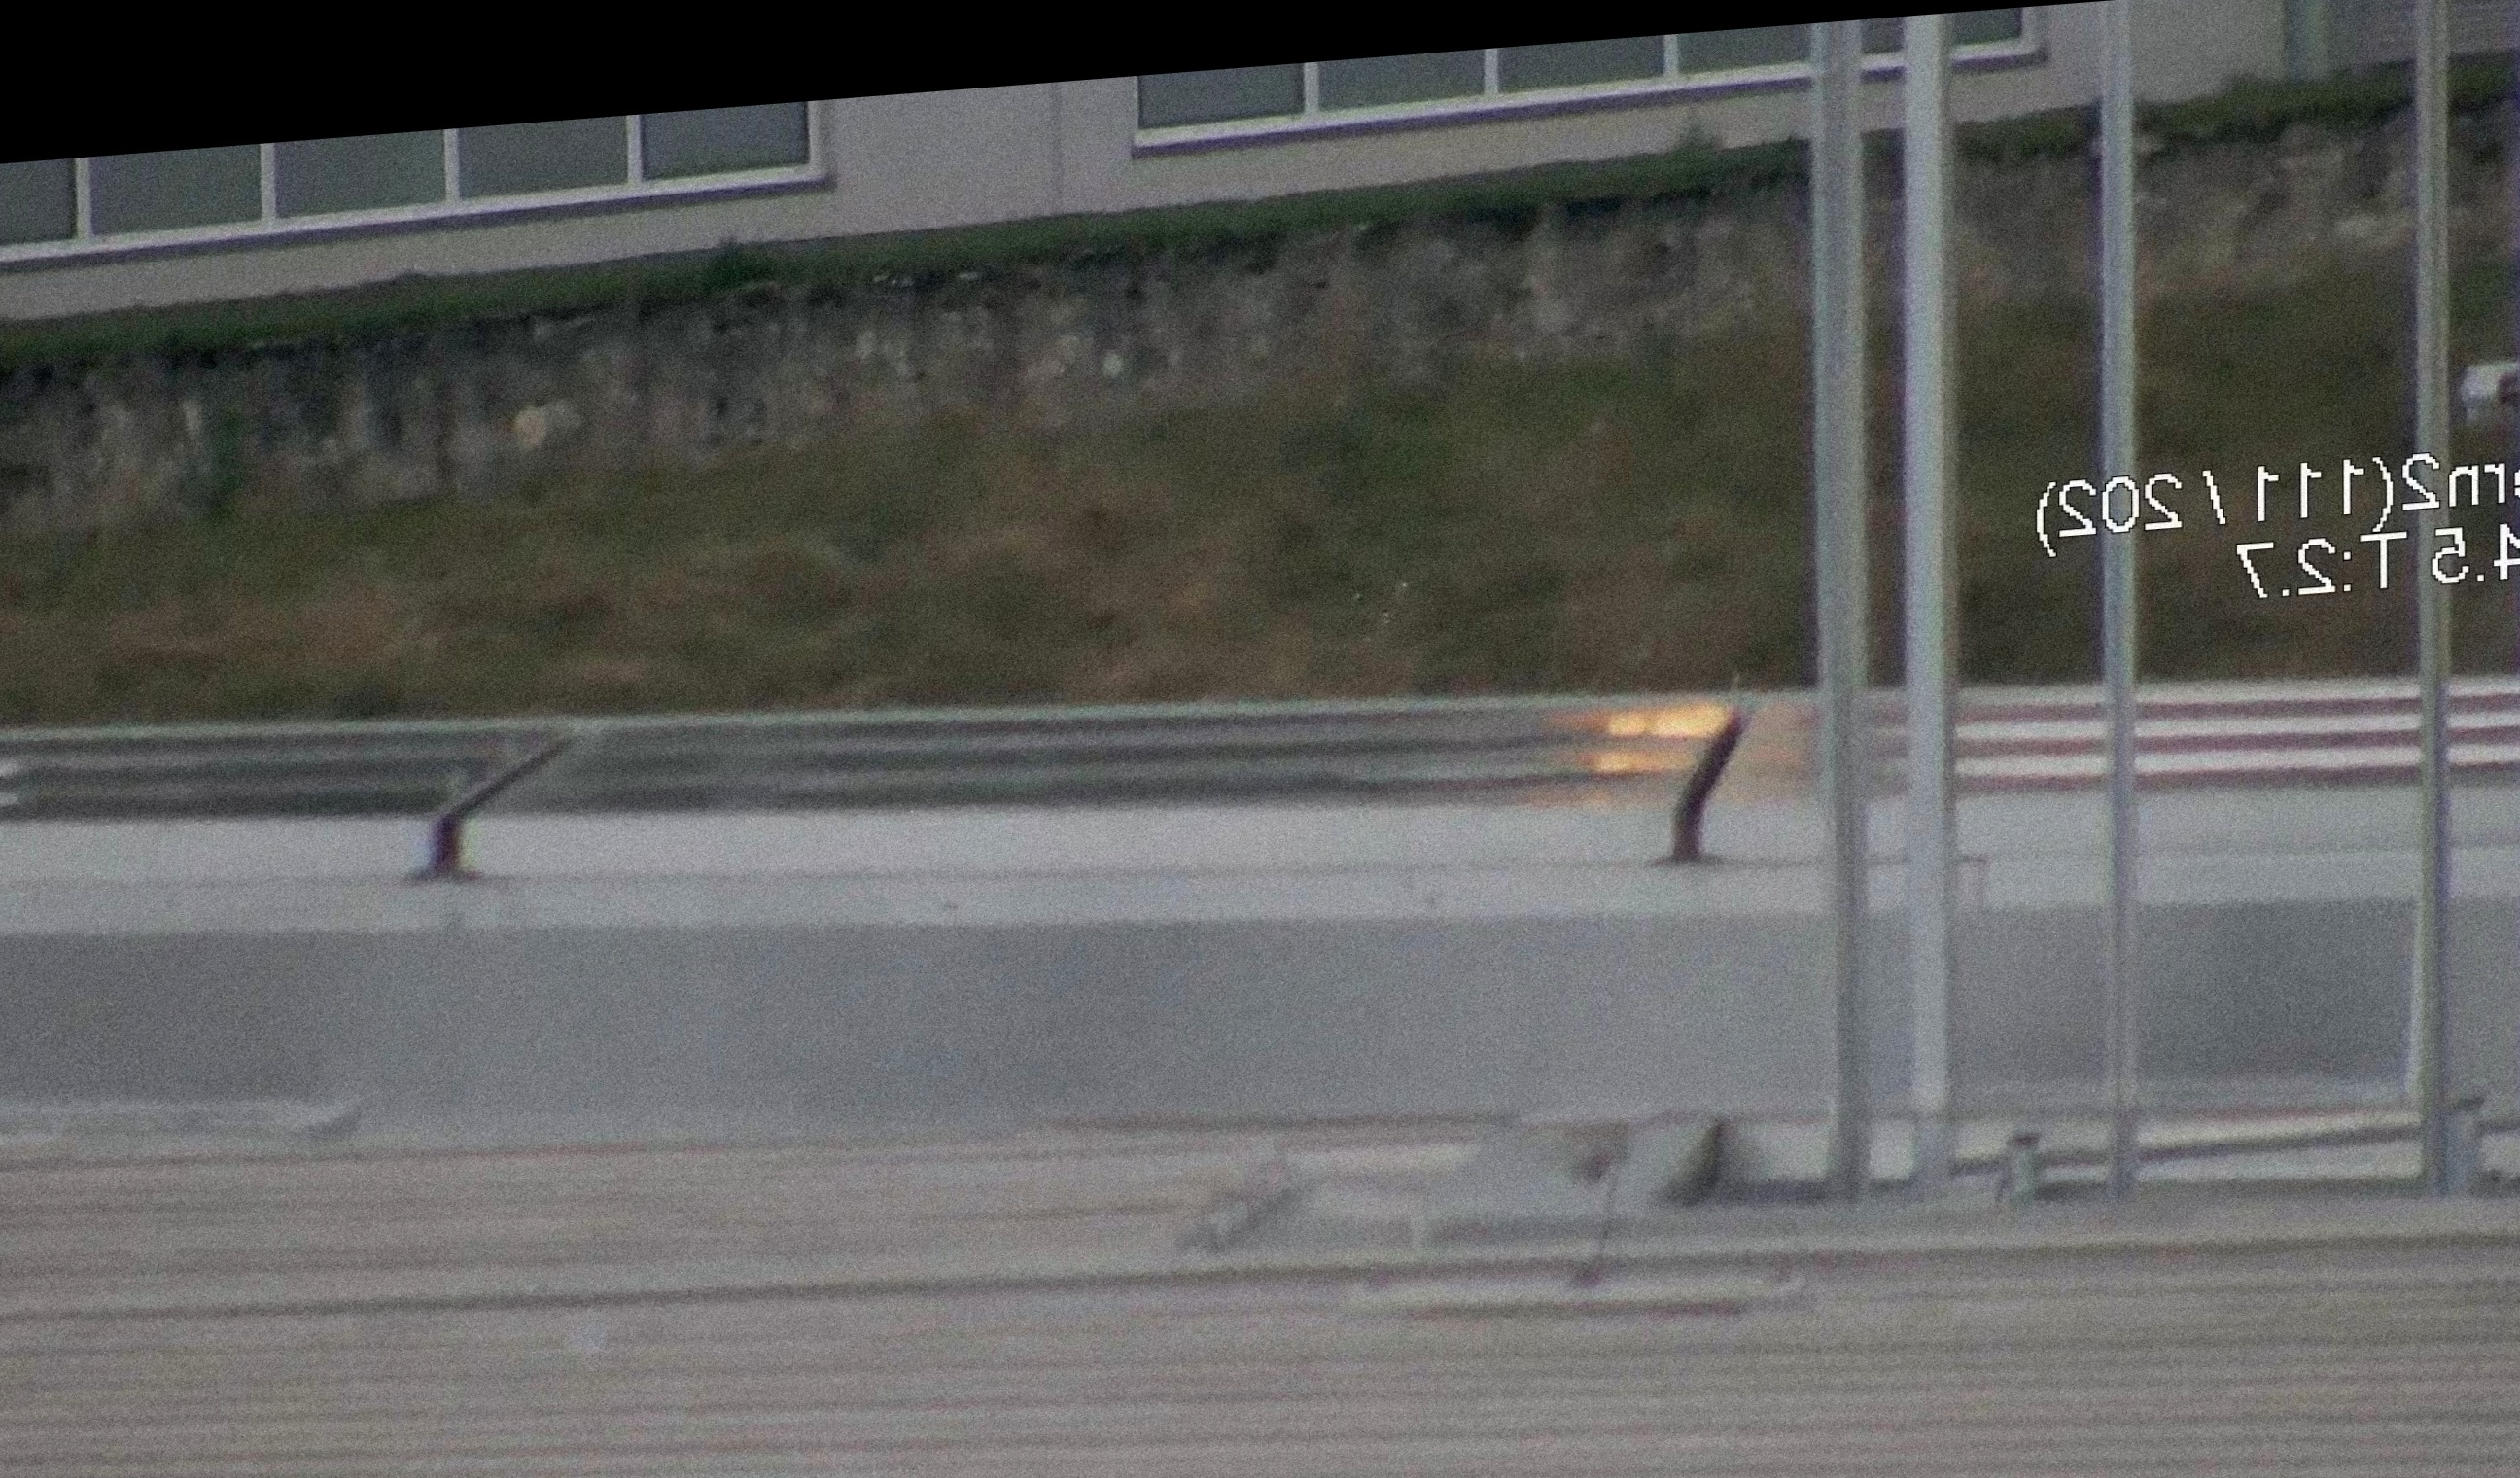Other: (1646, 690, 1759, 878)
